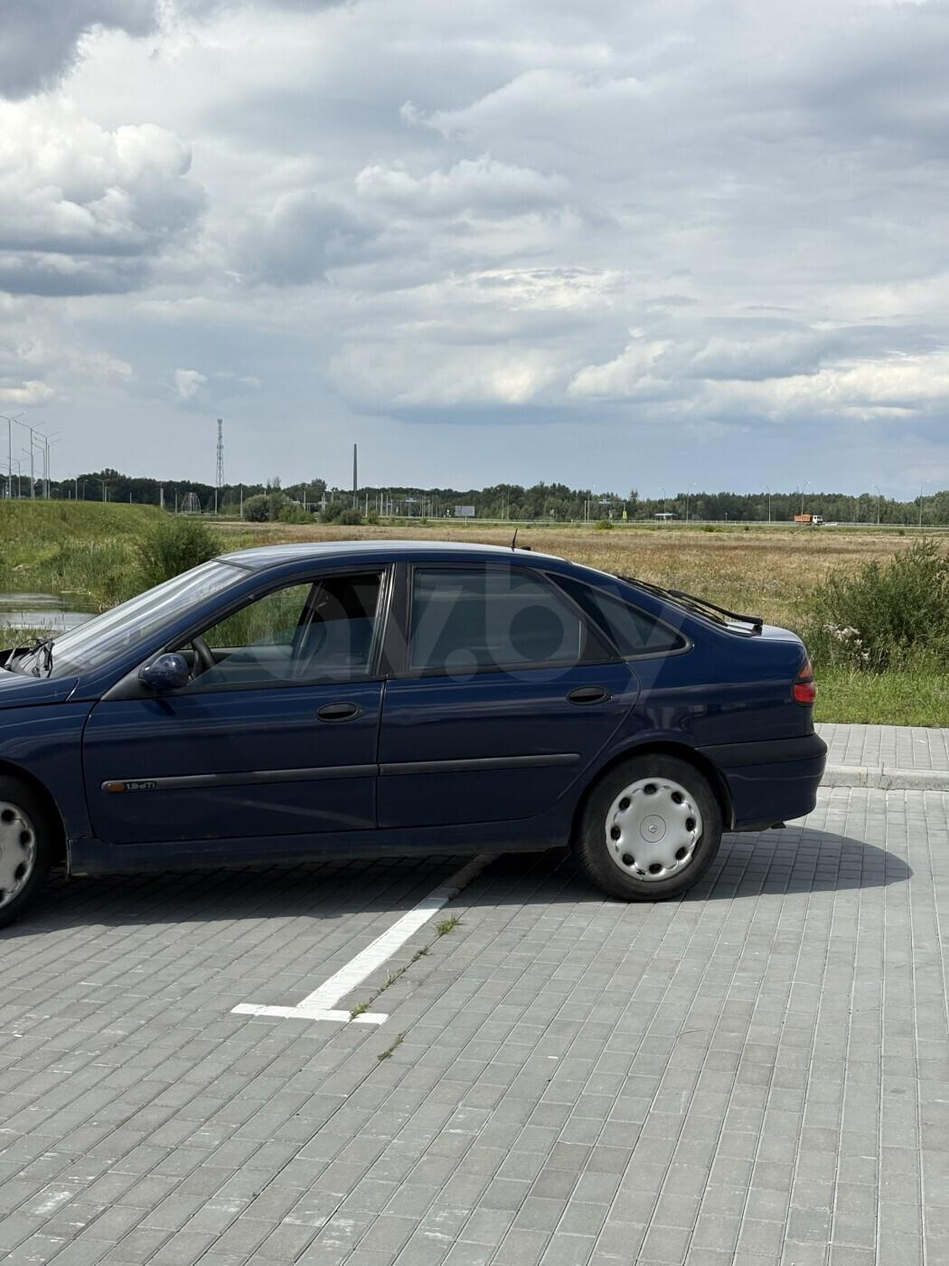Laguna_1998-2001: (0, 526, 833, 935)
